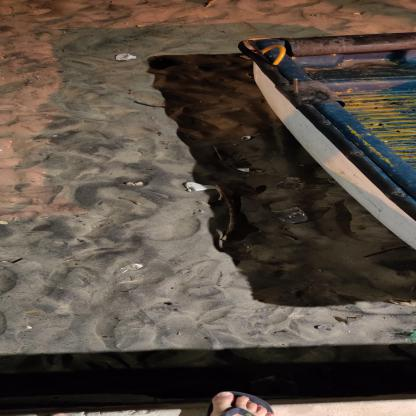plastik: (273, 207, 309, 225), (277, 178, 307, 190)
